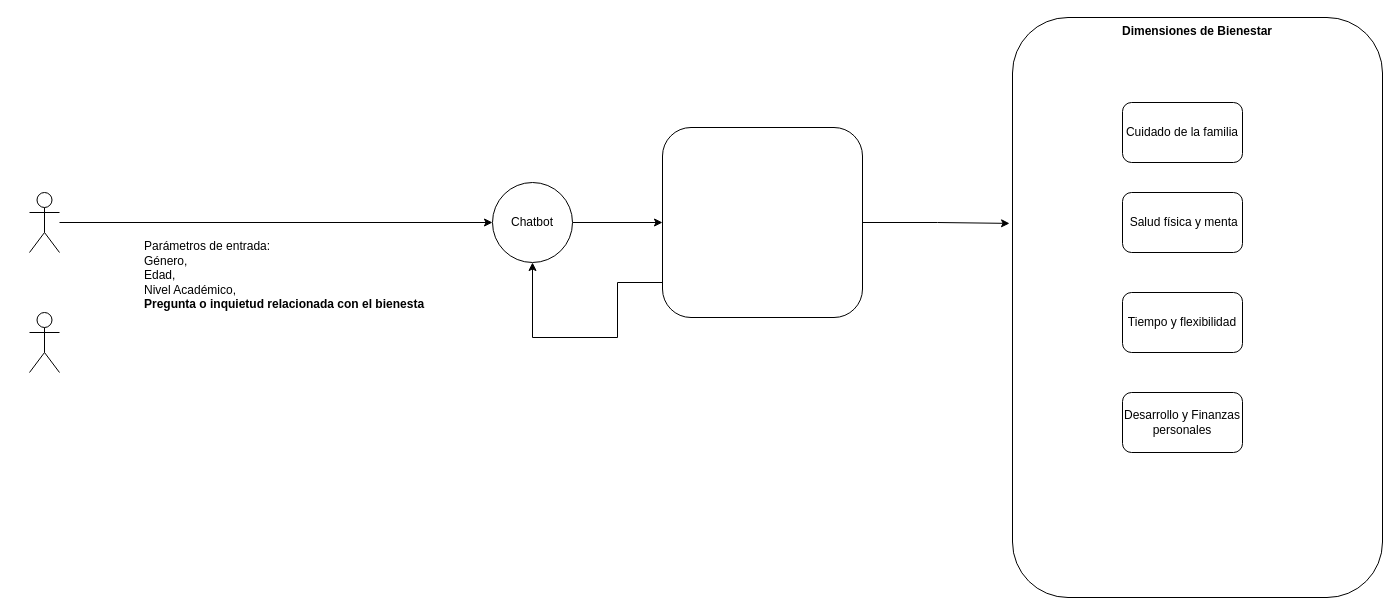
The diagram is 1400 pixels wide and 615 high, and some of its shapes have lost their labels. The centre of each missing label's shape, as x and y in pixels:
"Bienestar LLM" goes at (x=762, y=222).
"Empresas" goes at (x=44, y=222).
"Personas" goes at (x=44, y=342).
